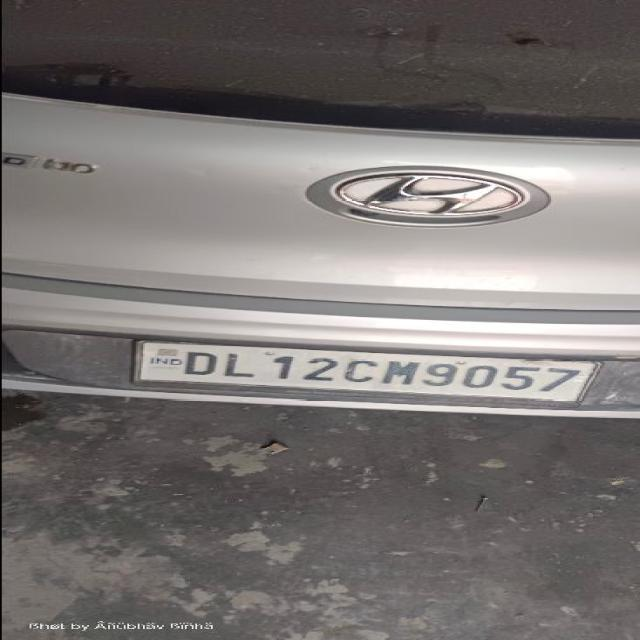license_plate: (129, 339, 602, 405)
